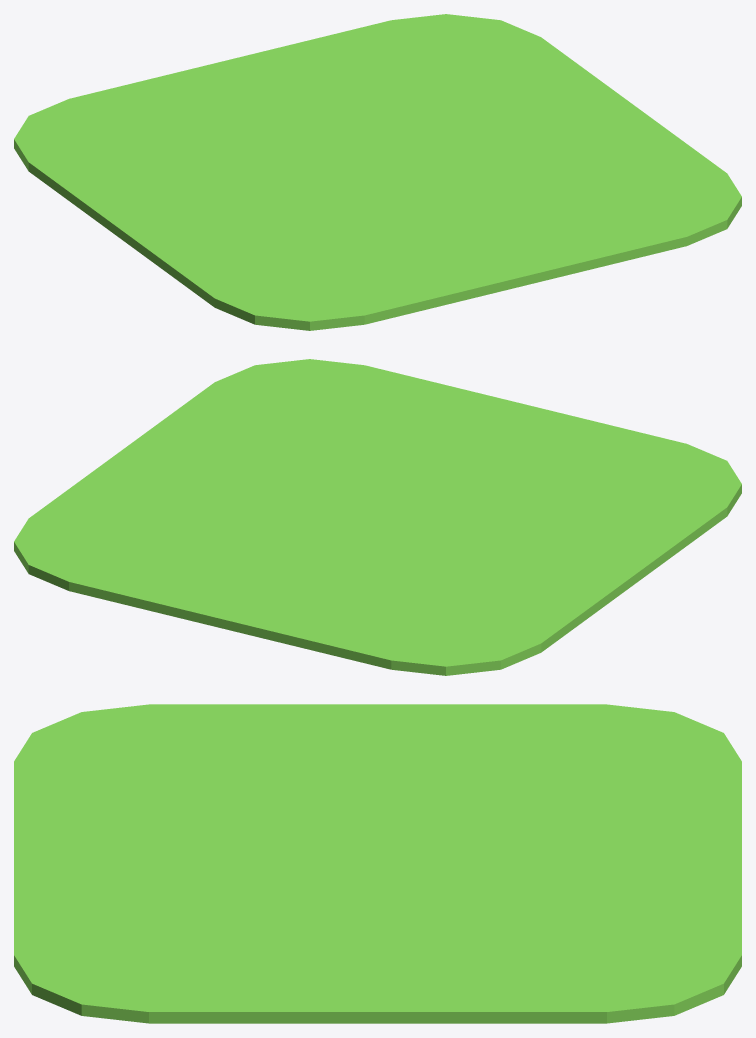
File: Extra.fbx
The picture shows the model from 3 angles, top to bottom: view 1: azimuth 30°, elevation 25°; view 2: azimuth 150°, elevation 25°; view 3: azimuth 270°, elevation 25°; orthographic projection. The views are drawn at different scales.
Visible parts, largest first — view 1: Extra; view 2: Extra; view 3: Extra.
Boxes of the visible parts, x1,y1,x2,y2 form: Extra: (14, 14, 741, 330); Extra: (14, 359, 741, 675); Extra: (14, 704, 741, 1023).
Size of the model in its own units: 2 by 0.0346 by 2.
